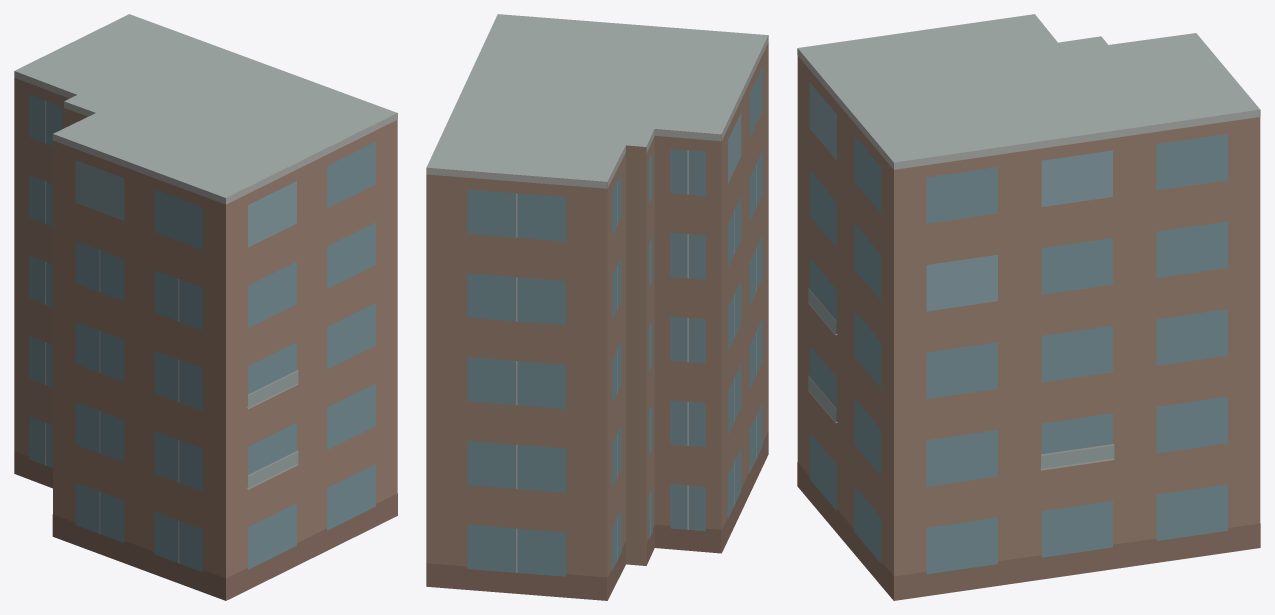
The model's file is survey-upis-33017871.glb.
3 renders of one model, left to right at view 1: azimuth 30°, elevation 25°; view 2: azimuth 150°, elevation 25°; view 3: azimuth 270°, elevation 25°, orthographic. The views are drawn at different scales.
Parts seen in each view (by area): view 1: survey-upis-33017871.tmp; view 2: survey-upis-33017871.tmp; view 3: survey-upis-33017871.tmp.
Boxes of the visible parts, bbox=[...] form: survey-upis-33017871.tmp: bbox=[14, 14, 397, 600]; survey-upis-33017871.tmp: bbox=[426, 14, 768, 600]; survey-upis-33017871.tmp: bbox=[797, 14, 1260, 600].
Size of the model in its own units: 10.85 by 14.9 by 14.28.
